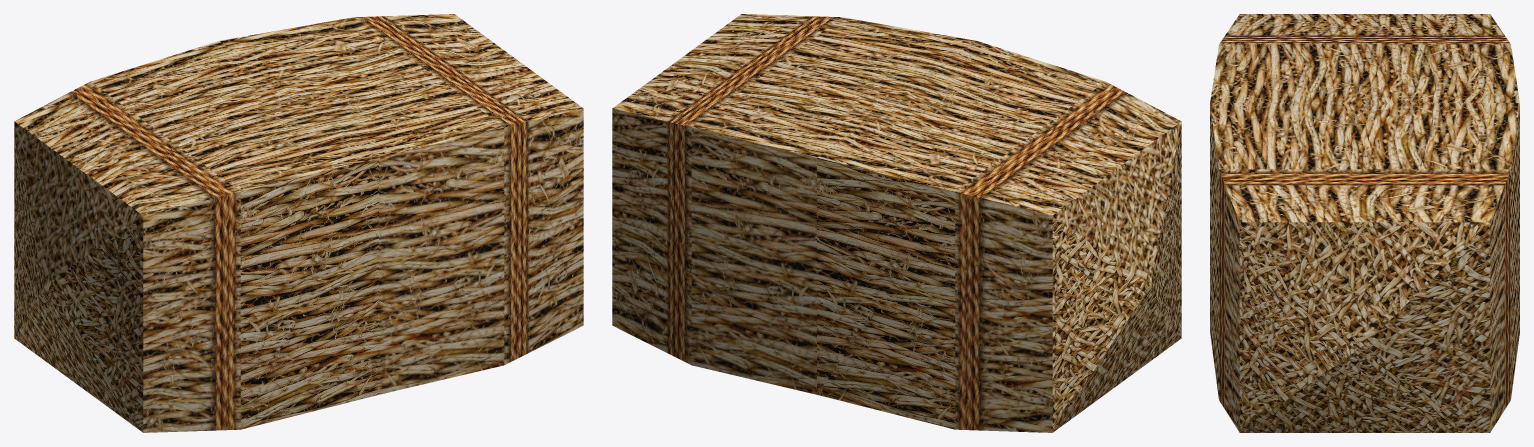
File: mm9_deco_haybale01.glb
The picture shows the model from 3 angles, left to right: view 1: azimuth 30°, elevation 25°; view 2: azimuth 150°, elevation 25°; view 3: azimuth 270°, elevation 25°; orthographic projection. The views are drawn at different scales.
Parts seen in each view (by area): view 1: Haybale01; view 2: Haybale01; view 3: Haybale01.
Boxes of the visible parts, x1=… form: Haybale01: x1=14, y1=14, x2=583, y2=432; Haybale01: x1=612, y1=14, x2=1181, y2=432; Haybale01: x1=1210, y1=14, x2=1519, y2=432.
Bounding box in the file's own units: 1.45 × 0.6607 × 0.7881.
Materials: 1 (1 with a texture image).
